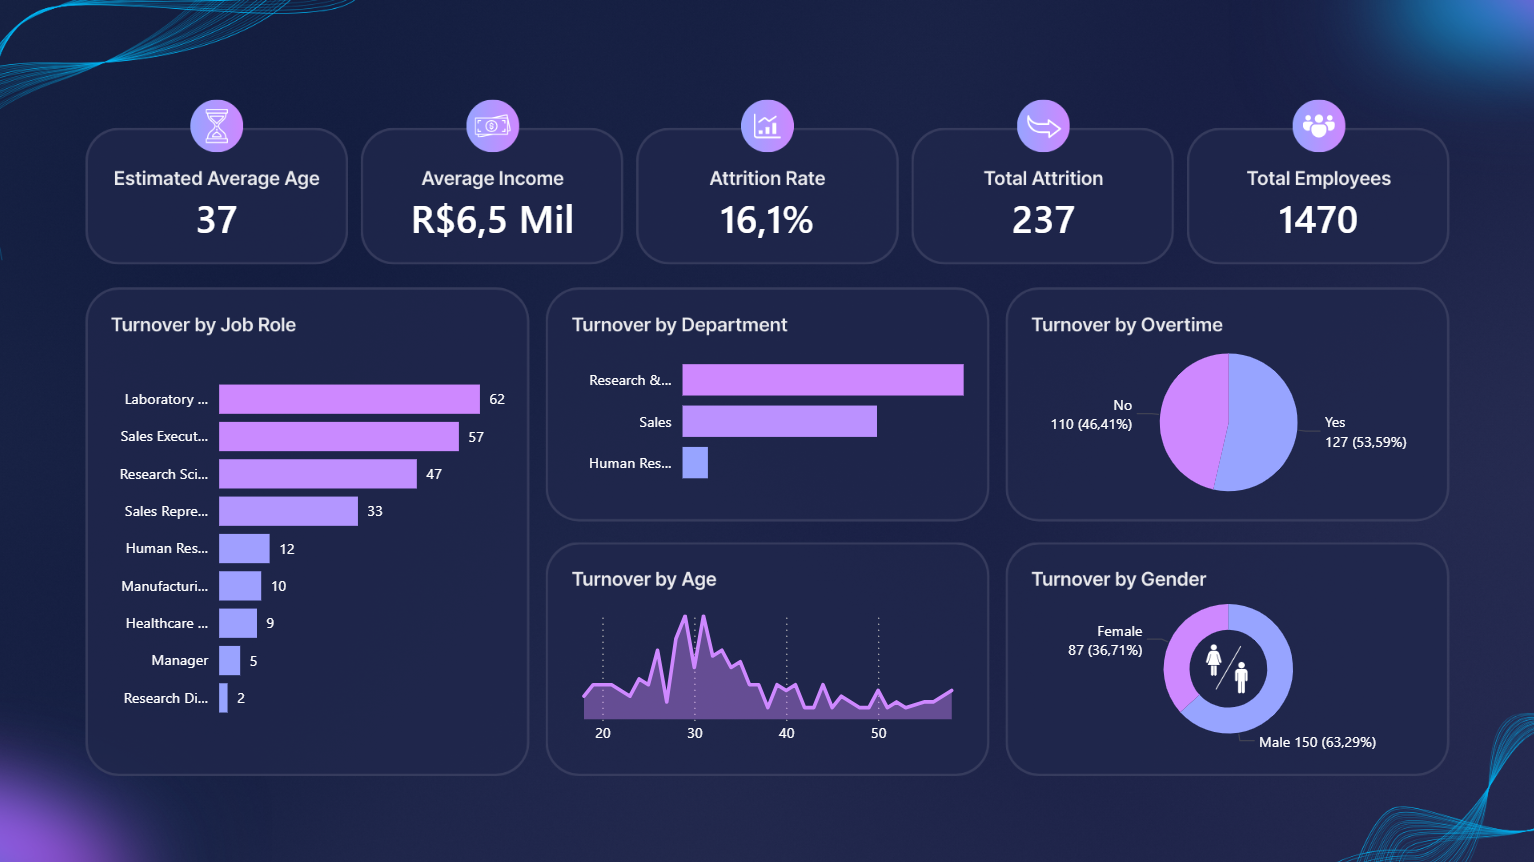

This screenshot's page, from the dashboard's own definition file:
{"tool":"powerbi","page":{"name":"Conteúdo","canvas":[1280,720],"ordinal":1},"visuals":[{"type":"card","fields":{"Values":["HR-Employee-Attrition.Idade Média"]},"box":[71.8,147.4,219.1,70],"z":0},{"type":"card","fields":{"Values":["HR-Employee-Attrition.Renda Média"]},"box":[301.1,147.4,219.1,70],"z":1000},{"type":"card","fields":{"Values":["select","HR-Employee-Attrition.Taxa de Atrição"]},"box":[530.5,147.4,219.1,70],"z":2000},{"type":"card","fields":{"Values":["HR-Employee-Attrition.Total Attrition"]},"box":[759.8,147.4,219.1,70],"z":3000},{"type":"card","fields":{"Values":["HR-Employee-Attrition.Total Funcionários"]},"box":[989.1,147.4,219.1,70],"z":4000},{"type":"barChart","fields":{"Y":["HR-Employee-Attrition.Total Attrition"],"Category":["HR-Employee-Attrition.JobRole"]},"box":[83.6,294.5,346.4,316.4],"z":5000},{"type":"barChart","fields":{"Y":["HR-Employee-Attrition.Total Attrition"],"Category":["HR-Employee-Attrition.Department"]},"box":[472,276,336,142],"z":6000},{"type":"stackedAreaChart","fields":{"Category":["HR-Employee-Attrition.Age"],"Y":["HR-Employee-Attrition.Total Attrition"]},"box":[472,499,336,130],"z":7000},{"type":"pieChart","fields":{"Category":["HR-Employee-Attrition.OverTime"],"Y":["HR-Employee-Attrition.Total Attrition"]},"box":[839,273,369,157],"z":8000},{"type":"donutChart","fields":{"Category":["HR-Employee-Attrition.Gender"],"Y":["HR-Employee-Attrition.Total Attrition"]},"box":[839.2,483.1,368.5,147.7],"z":9000},{"type":"image","box":[983.1,523.1,78.5,68.5],"z":10000}]}

Visuals, with their boxes in screenshot pixels (x1, y1, x2, y2), scaled from the page's 1280x720 canvas onto the 1534x862 screenshot:
card - HR-Employee-Attrition.Idade Média: (left=86, top=176, right=349, bottom=260)
card - HR-Employee-Attrition.Renda Média: (left=361, top=176, right=623, bottom=260)
card - select x HR-Employee-Attrition.Taxa de Atrição: (left=636, top=176, right=898, bottom=260)
card - HR-Employee-Attrition.Total Attrition: (left=911, top=176, right=1173, bottom=260)
card - HR-Employee-Attrition.Total Funcionários: (left=1185, top=176, right=1448, bottom=260)
barChart - HR-Employee-Attrition.Total Attrition x HR-Employee-Attrition.JobRole: (left=100, top=353, right=515, bottom=731)
barChart - HR-Employee-Attrition.Total Attrition x HR-Employee-Attrition.Department: (left=566, top=330, right=968, bottom=500)
stackedAreaChart - HR-Employee-Attrition.Age x HR-Employee-Attrition.Total Attrition: (left=566, top=597, right=968, bottom=753)
pieChart - HR-Employee-Attrition.OverTime x HR-Employee-Attrition.Total Attrition: (left=1005, top=327, right=1448, bottom=515)
donutChart - HR-Employee-Attrition.Gender x HR-Employee-Attrition.Total Attrition: (left=1006, top=578, right=1447, bottom=755)
image: (left=1178, top=626, right=1272, bottom=708)
